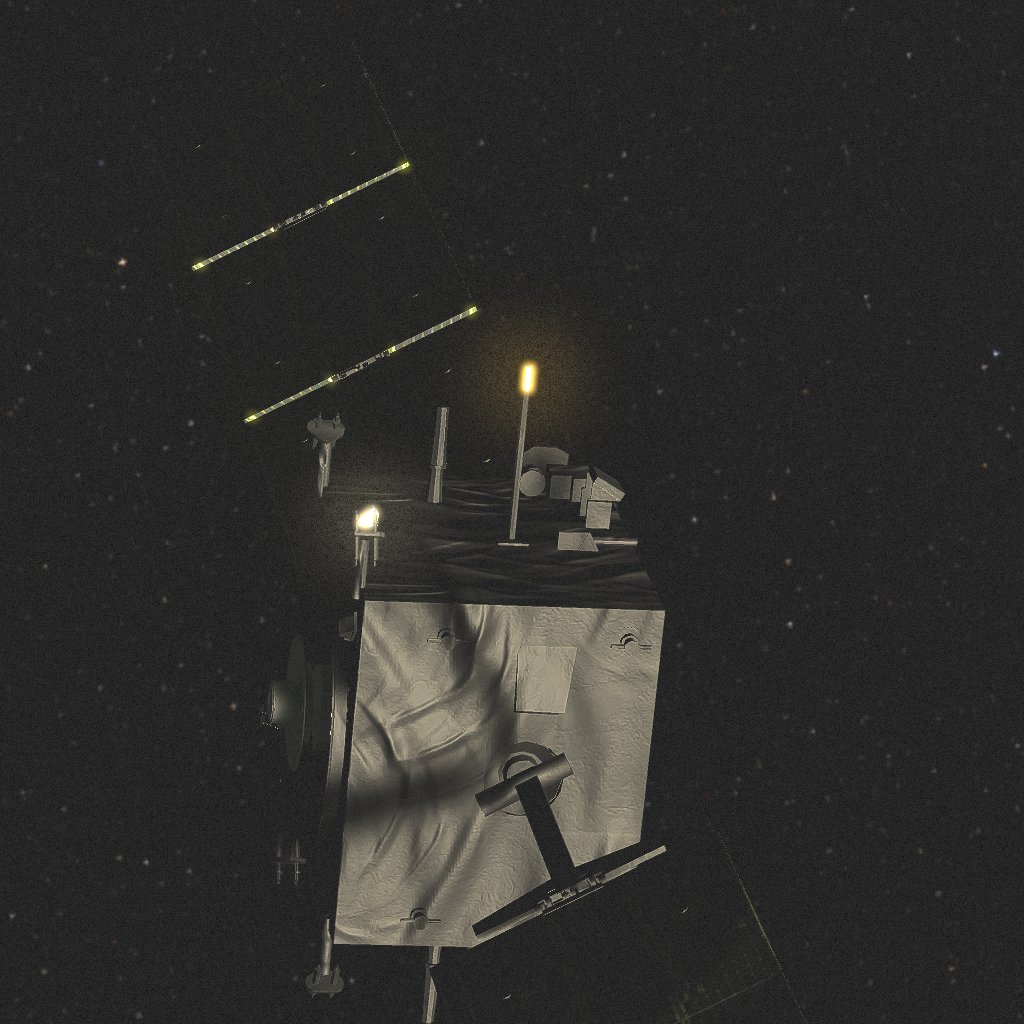smart_1: (148, 39, 806, 1024)
